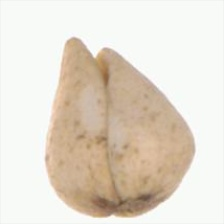L1: (61, 36, 114, 75), (82, 198, 165, 219)
L2: (43, 36, 196, 219)
